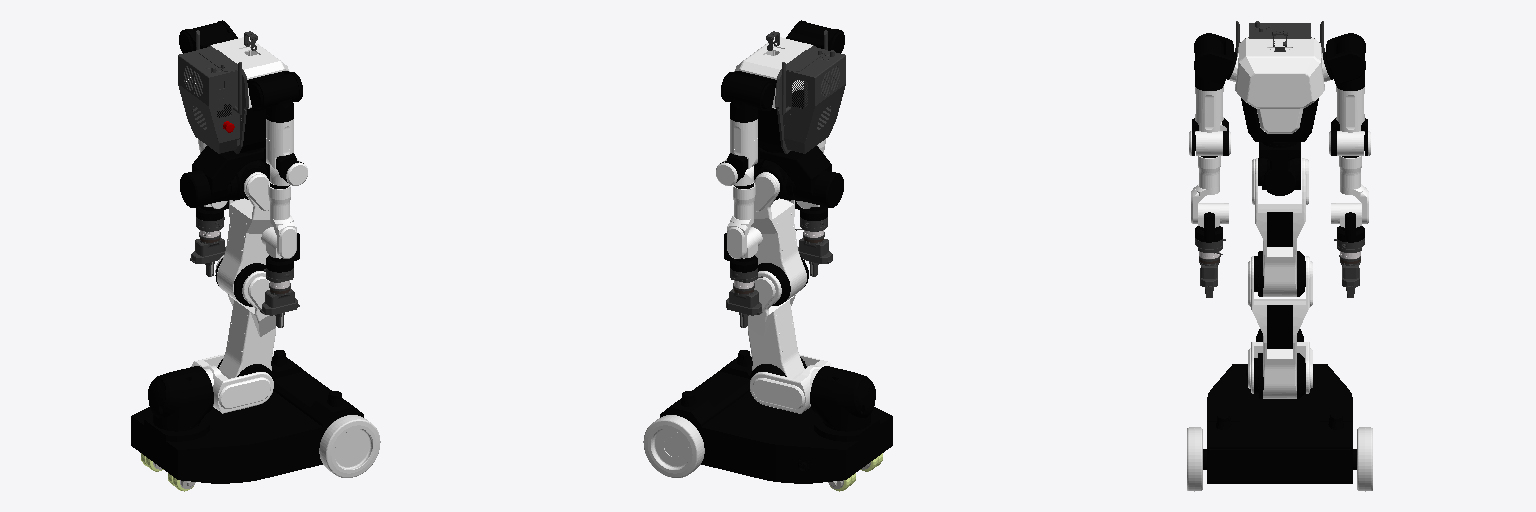
--- Facts derived from the render (not from the file) ---
The picture shows the robot from 3 angles, left to right: view 1: azimuth 30°, elevation 25°; view 2: azimuth 150°, elevation 25°; view 3: azimuth 270°, elevation 25°; orthographic projection.
Model RBY1_A_v1.0 with 34 links and 33 joints (22 revolute, 2 continuous, 4 prismatic, 5 fixed), rooted at base, posed every joint at zero.
Links seen in each view (by area): view 1: base, link_torso_5, link_torso_2, link_torso_1, wheel_r, link_torso_4, link_torso_0, link_right_arm_2, link_right_arm_1, link_right_arm_3, link_right_arm_5, link_right_arm_4 (+5 smaller); view 2: base, link_torso_5, link_torso_2, link_torso_1, wheel_l, link_torso_4, link_torso_0, link_left_arm_2, link_left_arm_1, link_left_arm_3, link_left_arm_5, link_left_arm_4 (+5 smaller); view 3: base, link_torso_5, link_torso_1, link_torso_2, link_torso_4, link_right_arm_2, link_left_arm_2, link_right_arm_3, link_left_arm_3, link_right_arm_0, link_left_arm_0, link_right_arm_5 (+6 smaller).
Link boxes in pixels (x1,y1,x2,y2): base: (131,350,363,491); link_torso_5: (178,30,289,153); link_torso_2: (215,172,272,306); link_torso_1: (215,255,275,407); wheel_r: (319,415,380,477); link_torso_4: (180,146,269,207); link_torso_0: (191,354,273,413); link_right_arm_2: (264,119,307,185); link_right_arm_1: (260,74,297,122); link_right_arm_3: (267,159,300,218); link_right_arm_5: (261,227,299,272); link_right_arm_4: (270,215,296,258); base: (660,350,892,491); link_torso_5: (734,30,845,153); link_torso_2: (751,172,808,305); link_torso_1: (748,259,806,379); wheel_l: (643,415,704,477); link_torso_4: (757,146,843,207); link_torso_0: (750,354,831,413); link_left_arm_2: (716,119,759,185); link_left_arm_1: (726,74,763,122); link_left_arm_3: (723,159,756,218); link_left_arm_5: (724,227,762,272); link_left_arm_4: (727,215,753,258); base: (1203,329,1356,483); link_torso_5: (1227,21,1332,145); link_torso_1: (1248,256,1312,398); link_torso_2: (1252,158,1308,296); link_torso_4: (1259,142,1300,195); link_right_arm_2: (1189,86,1230,155); link_left_arm_2: (1329,86,1370,155); link_right_arm_3: (1195,131,1226,187); link_left_arm_3: (1333,131,1364,187); link_right_arm_0: (1194,33,1234,84); link_left_arm_0: (1325,33,1365,84); link_right_arm_5: (1195,203,1228,242).
Size in the robot's own frame: 0.6626 by 0.58 by 1.47 metres.
Meshes: 29 distinct files referenced, 32 mesh visuals loaded (27 Collada DAE); not drawn: 2 (reference not matched to a file when rendering).

URDF robot description (RBY1_A_v1.0):
<?xml version="1.0"?>
<robot name="RBY1_A_v1.0"> <!-- This file is the same as 'model-v1.0.urdf' -->
    <mobile type="differential" xyz="0.228 0 0" rpy="0 0 0" joints="right_wheel left_wheel"
            params="0.53 0.1"/> <!-- wheel_base, wheel_radius -->

    <link name="base">
        <inertial>
            <mass value="60.08042639"/>
            <origin rpy="0 0 0" xyz="-0.06157942 -0.00142271 0.13513861"/>
            <inertia ixx="1.37742174" ixy="0.02521789" ixz="0.18565467" iyy="2.99386515" iyz="-0.00641869"
                     izz="3.76085052"/>
        </inertial>

        <visual>
            <geometry>
                <mesh filename="./meshes/base.dae"/>
            </geometry>
        </visual>
    </link>

    <link name="wheel_r">
        <inertial>
            <mass value="1.37783736"/>
            <origin rpy="0 0 0" xyz="0.0 -0.00073938 0.0"/>
            <inertia ixx="0.00426657" ixy="0.0" ixz="0.0" iyy="0.00811815" iyz="0.0" izz="0.00426657"/>
        </inertial>

        <visual>
            <geometry>
                <mesh filename="./meshes/WHEEL.dae"/>
            </geometry>
        </visual>
    </link>

    <link name="wheel_l">
        <inertial>
            <mass value="1.37783736"/>
            <origin rpy="0 0 0" xyz="0.0 0.00073938 0.0"/>
            <inertia ixx="0.00426657" ixy="0.0" ixz="0.0" iyy="0.00811815" iyz="0.0" izz="0.00426657"/>
        </inertial>

        <visual>
            <geometry>
                <mesh filename="./meshes/WHEEL.dae"/>
            </geometry>
        </visual>
    </link>

    <link name="link_torso_0">
        <inertial>
            <mass value="2.24282123"/>
            <origin rpy="0 0 0" xyz="-0.08848415 0.00021367 0.00000046"/>
            <inertia ixx="0.01413496" ixy="0.00092982" ixz="-0.00000010" iyy="0.01005357"
                     iyz="-0.00000008" izz="0.01892525"/>
        </inertial>

        <visual>
            <geometry>
                <mesh filename="./meshes/LINK_1.dae"/>
            </geometry>
        </visual>

        <collision>
            <origin xyz="-0.115 0 0" rpy="0 1.5708 0"/>
            <geometry>
                <capsule radius="0.105" length="0.230" coltype="1"/>
                <!-- <capsule sp="0.0 0.0 0.0" ep="-0.230 0.0 0.0" radius="0.105" length="1"/> -->
            </geometry>
        </collision>
    </link>

    <link name="link_torso_1">
        <inertial>
            <mass value="9.72162676"/>
            <origin rpy="0 0 0" xyz="0.00728955 -0.01728522 0.06911380"/>
            <inertia ixx="0.14862640" ixy="-0.00142621" ixz="-0.00951385" iyy="0.13854733"
                     iyz="-0.00975351" izz="0.02912982"/>
        </inertial>

        <visual>
            <geometry>
                <mesh filename="./meshes/LINK_2.dae"/>
            </geometry>
        </visual>

        <collision>
            <origin xyz="0.0100 0 0.2400" rpy="0 0 0"/>
            <geometry>
                <capsule radius="0.115" length="0.220" coltype="2"/>
                <!-- <capsule sp="0.01 0.0 0.130" ep="0.01 0.0 0.350" radius="0.115"/> -->
            </geometry>
        </collision>
    </link>

    <link name="link_torso_2">
        <inertial>
            <mass value="9.21691850"/>
            <origin rpy="0 0 0" xyz="0.00653835 -0.01769536 0.05636582"/>
            <inertia ixx="0.12162270" ixy="-0.00127910" ixz="-0.00831678" iyy="0.11589190"
                     iyz="-0.00873271" izz="0.03094484"/>
        </inertial>

        <visual>
            <geometry>
                <mesh filename="./meshes/LINK_3.dae"/>
            </geometry>
        </visual>

        <collision>
            <origin xyz="0.0250 0 0.2300" rpy="0 0 0"/>
            <geometry>
                <capsule radius="0.095" length="0.1600" coltype="4"/>
                <!-- <capsule sp="0.025 0.0 0.15" ep="0.025 0.0 0.310" radius="0.095"/> -->
            </geometry>
        </collision>
    </link>

    <link name="link_torso_3">
        <inertial>
            <mass value="4.18679196"/>
            <origin rpy="0 0 0" xyz="-0.00574156 -0.01725975 0.00005610"/>
            <inertia ixx="0.00849870" ixy="0.00040861" ixz="-0.00000263" iyy="0.00929513"
                     iyz="-0.00001243" izz="0.00955442"/>
        </inertial>

        <visual>
            <geometry>
                <mesh filename="./meshes/LINK_4.dae"/>
            </geometry>
        </visual>
    </link>

    <link name="link_torso_4">
        <inertial>
            <mass value="4.45566276"/>
            <origin rpy="0 0 0" xyz="-0.09097095 0.00005085 0.02601950"/>
            <inertia ixx="0.01545991" ixy="0.00001883" ixz="-0.00780349" iyy="0.02550888" iyz="0.00000715"
                     izz="0.01952563"/>
        </inertial>

        <visual>
            <geometry>
                <mesh filename="./meshes/LINK_5.dae"/>
            </geometry>
        </visual>


        <collision>
            <origin xyz="-0.070000 0 0.038500" rpy="0 1.5708 0"/>
            <geometry>
                <capsule radius="0.105" length="0.2" coltype="8"/>
                <!-- <capsule sp="0.03 0.0 0.0385" ep="-0.170 0.0 0.0385" radius="0.105"/> -->
            </geometry>
        </collision>
    </link>

    <link name="link_torso_5">
        <inertial>
            <mass value="12.59012341"/>
            <origin rpy="0 0 0" xyz="-0.01338376 0.00025621 -0.03272487"/>
            <inertia ixx="0.21375525" ixy="0.00051520" ixz="0.00880124" iyy="0.16562090" iyz="-0.00023995"
                     izz="0.13308879"/>
        </inertial>

        <visual>
            <geometry>
                <mesh filename="./meshes/LINK_6.dae"/>
            </geometry>
        </visual>

        <collision>
            <origin xyz="0 0 0.0075" rpy="0 0 0"/>
            <geometry>
                <capsule radius="0.155" length="0.1350" coltype="16"/>
                <!-- <capsule sp="0.0 0.0 -0.06" ep="0.0 0.0 0.075" radius="0.155"/> -->
            </geometry>
        </collision>
    </link>

    <link name="link_right_arm_0">
        <inertial>
            <mass value="1.26164242"/>
            <origin rpy="0 0 0" xyz="-0.00316662 0.03437181 -0.00000030"/>
            <inertia ixx="0.00230621" ixy="0.00039024" ixz="-0.00000256" iyy="0.00426418" iyz="0.00000118"
                     izz="0.00432156"/>
        </inertial>

        <visual>
            <geometry>
                <mesh filename="./meshes/LINK_7.dae"/>
            </geometry>
        </visual>

        <collision>
            <origin xyz="-0.015 0.018 -0.008" rpy="0 1.5708 0"/>
            <geometry>
                <capsule radius="0.075" length="0.0700"/>
            </geometry>
        </collision>
    </link>

    <link name="link_right_arm_1">
        <inertial>
            <mass value="2.27287031"/>
            <origin rpy="0 0 0" xyz="-0.00307855 -0.00124741 -0.01294324"/>
            <inertia ixx="0.00388490" ixy="-0.00001477" ixz="0.00011465" iyy="0.00447034"
                     iyz="-0.00010023" izz="0.00288341"/>
        </inertial>

        <visual>
            <geometry>
                <mesh filename="./meshes/LINK_8.dae"/>
            </geometry>
        </visual>

        <collision>
            <origin xyz="0 0 -0.1000" rpy="0 0 0"/>
            <geometry>
                <capsule radius="0.05" length="0.2" coltype="32"/>
                <!-- <capsule sp="0.0 0.0 0.0" ep="0.0 0.0 -0.200" radius="0.050"/> -->
            </geometry>
        </collision>
    </link>

    <link name="link_right_arm_2">
        <inertial>
            <mass value="2.46909439"/>
            <origin rpy="0 0 0" xyz="0.00115434 0.00196635 -0.16192524"/>
            <inertia ixx="0.00980269" ixy="0.00005871" ixz="0.00051888" iyy="0.00924560" iyz="-0.00045932"
                     izz="0.00329867"/>
        </inertial>

        <visual>
            <geometry>
                <mesh filename="./meshes/LINK_9.dae"/>
            </geometry>
        </visual>

        <collision>
            <origin xyz="0.0260 0 -0.2760" rpy="1.5708 0 0"/>
            <geometry>
                <capsule radius="0.05" length="0.080000" coltype="64"/>
                <!-- <capsule sp="0.026 -0.040 -0.276" ep="0.026 0.040 -0.276" radius="0.05"/> -->
            </geometry>
        </collision>
    </link>

    <link name="link_right_arm_3">
        <inertial>
            <mass value="2.26099493"/>
            <origin rpy="0 0 0" xyz="-0.01603135 -0.00692891 -0.04549811"/>
            <inertia ixx="0.00822606" ixy="0.00027620" ixz="-0.00156570" iyy="0.00844870" iyz="0.00076157"
                     izz="0.00236614"/>
        </inertial>

        <visual>
            <geometry>
                <mesh filename="./meshes/LINK_10.dae"/>
            </geometry>
        </visual>

        <collision>
            <origin xyz="-0.0310 0 -0.1075" rpy="0 0 0"/>
            <geometry>
                <capsule radius="0.04" length="0.1150" coltype="128" colaffinity="30"/>
                <!-- <capsule sp="-0.031 0.0 -0.05" ep="-0.031 0.0 -0.165" radius="0.04"/> -->
            </geometry>
        </collision>
    </link>

    <link name="link_right_arm_4">
        <inertial>
            <mass value="0.42508710"/>
            <origin rpy="0 0 0" xyz="-0.00000011 -0.02696036 0.06182110"/>
            <inertia ixx="0.00082466" ixy="0.0" ixz="0.0" iyy="0.00075398" iyz="-0.00025338"
                     izz="0.00039794"/>
        </inertial>

        <visual>
            <geometry>
                <mesh filename="./meshes/LINK_11.dae"/>
            </geometry>
        </visual>

        <collision>
            <origin xyz="0 -0.038 0.0175" rpy="0 0 0"/>
            <geometry>
                <capsule radius="0.035" length="0.095" coltype="256" colaffinity="30"/>
            </geometry>
        </collision>
    </link>

    <link name="link_right_arm_5">
        <inertial>
            <mass value="1.59194395"/>
            <origin rpy="0 0 0" xyz="0.00318034 -0.00532264 -0.02809655"/>
            <inertia ixx="0.00256054" ixy="-0.00002344" ixz="-0.00001563" iyy="0.00257233"
                     iyz="0.00021608" izz="0.00156092"/>
        </inertial>

        <visual>
            <geometry>
                <mesh filename="./meshes/LINK_12.dae"/>
            </geometry>
        </visual>

        <collision>
            <origin xyz="0 0 -0.1" rpy="0 0 0"/>
            <geometry>
                <capsule radius="0.075" length="0.25" coltype="512" colaffinity="31"/>
                <!-- <capsule sp="0.0 0.0 0.002" ep="0.0 0.0 -0.050" radius="0.075"/> -->
            </geometry>
        </collision>
    </link>

    <link name="link_right_arm_6">
        <inertial>
            <mass value="0.21137279"/>
            <origin rpy="0 0 0" xyz="0.00066810 -0.00031708 -0.09636043"/>
            <inertia ixx="0.00013511" ixy="-0.00000242" ixz="-0.00000102" iyy="0.00014453"
                     iyz="0.00000094" izz="0.00025431"/>
        </inertial>

        <visual>
            <geometry>
                <mesh filename="./meshes/LINK_13.dae"/>
            </geometry>
        </visual>
    </link>

    <link name="link_left_arm_0">
        <inertial>
            <mass value="1.26164242"/>
            <origin rpy="0 0 0" xyz="-0.00316662 -0.03437181 -0.00000030"/>
            <inertia ixx="0.00230621" ixy="-0.00039024" ixz="0.00000256" iyy="0.00426418" iyz="0.00000118"
                     izz="0.00432156"/>
        </inertial>

        <visual>
            <geometry>
                <mesh filename="./meshes/LINK_14.dae"/>
            </geometry>
        </visual>

        <collision>
            <origin xyz="-0.015 -0.018 -0.008" rpy="0 1.5708 0"/>
            <geometry>
                <capsule radius="0.075" length="0.0700"/>
            </geometry>
        </collision>
    </link>

    <link name="link_left_arm_1">
        <inertial>
            <mass value="2.27287031"/>
            <origin rpy="0 0 0" xyz="-0.00307855 0.00124741 -0.01294324"/>
            <inertia ixx="0.00388490" ixy="-0.00001477" ixz="0.00011465" iyy="0.00447034" iyz="0.00010023"
                     izz="0.00288341"/>
        </inertial>

        <visual>
            <geometry>
                <mesh filename="./meshes/LINK_15.dae"/>
            </geometry>
        </visual>

        <collision>
            <origin xyz="0 0 -0.1000" rpy="0 0 0"/>
            <geometry>
                <capsule radius="0.050" length="0.2000" colaffinity="768"/>
            </geometry>
        </collision>
    </link>

    <link name="link_left_arm_2">
        <inertial>
            <mass value="2.46909439"/>
            <origin rpy="0 0 0" xyz="0.00115434 -0.00196635 -0.16192524"/>
            <inertia ixx="0.00980269" ixy="0.00005871" ixz="0.00051888" iyy="0.00924560" iyz="-0.00045932"
                     izz="0.00329867"/>
        </inertial>

        <visual>
            <geometry>
                <mesh filename="./meshes/LINK_16.dae"/>
            </geometry>
        </visual>

        <collision>
            <origin xyz="0.0260 0 -0.2760" rpy="1.5708 0 0"/>
            <geometry>
                <capsule radius="0.05" length="0.080000" colaffinity="768"/>
            </geometry>
        </collision>
    </link>

    <link name="link_left_arm_3">
        <inertial>
            <mass value="2.26099493"/>
            <origin rpy="0 0 0" xyz="-0.01603135 0.00692891 -0.04549811"/>
            <inertia ixx="0.00822606" ixy="-0.00027620" ixz="-0.00156570" iyy="0.00844870"
                     iyz="-0.00076157" izz="0.00236614"/>
        </inertial>

        <visual>
            <geometry>
                <mesh filename="./meshes/LINK_17.dae"/>
            </geometry>
        </visual>

        <collision>
            <origin xyz="-0.0310 0 -0.1075" rpy="0 0 0"/>
            <geometry>
                <capsule radius="0.04" length="0.1150" colaffinity="926"/>
            </geometry>
        </collision>
    </link>

    <link name="link_left_arm_4">
        <inertial>
            <mass value="0.42508710"/>
            <origin rpy="0 0 0" xyz="0.00000011 0.02696036 0.06182110"/>
            <inertia ixx="0.00082466" ixy="0.0" ixz="0.0" iyy="0.00075398" iyz="0.00025338"
                     izz="0.00039794"/>
        </inertial>

        <visual>
            <geometry>
                <mesh filename="./meshes/LINK_18.dae"/>
            </geometry>
        </visual>

        <collision>
            <origin xyz="0 0.038000 0.017500" rpy="0 0 0"/>
            <geometry>
                <capsule radius="0.035" length="0.095000" colaffinity="1022"/>
            </geometry>
        </collision>
    </link>

    <link name="link_left_arm_5">
        <inertial>
            <mass value="1.59194395"/>
            <origin rpy="0 0 0" xyz="0.00318034 0.00532264 -0.02809655"/>
            <inertia ixx="0.00256054" ixy="0.00002344" ixz="-0.00001563" iyy="0.00257233"
                     iyz="-0.00021608" izz="0.00156092"/>
        </inertial>

        <visual>
            <geometry>
                <mesh filename="./meshes/LINK_19.dae"/>
            </geometry>
        </visual>

        <collision>
            <origin xyz="0 0 -0.1" rpy="0 0 0"/>
            <geometry>
                <capsule radius="0.075" length="0.25" colaffinity="1023"/>
            </geometry>
        </collision>
    </link>

    <link name="link_left_arm_6">
        <inertial>
            <mass value="0.21137279"/>
            <origin rpy="0 0 0" xyz="-0.00066810 0.00031708 -0.09636043"/>
            <inertia ixx="0.00013511" ixy="-0.00000242" ixz="0.00000102" iyy="0.00014453"
                     iyz="-0.00000094" izz="0.00025431"/>
        </inertial>

        <visual>
            <geometry>
                <mesh filename="./meshes/LINK_20.dae"/>
            </geometry>
        </visual>
    </link>

    <link name="FT_sensor_R">
        <inertial>
            <mass value="0.49078507"/>
            <origin rpy="0 0 0" xyz="0.00010423 0.00108019 -0.01880676"/>
            <inertia ixx="0.00028587" ixy="-0.00000146" ixz="-0.00000026" iyy="0.00030459"
                     iyz="-0.00000772" izz="0.00036377"/>
        </inertial>

        <visual>
            <geometry>
                <mesh filename="./meshes/FT_SENSOR_R.dae"/>
            </geometry>
        </visual>
    </link>

    <link name="FT_sensor_L">
        <inertial>
            <mass value="0.49078507"/>
            <origin rpy="0 0 0" xyz="-0.00010423 -0.00108019 -0.01880676"/>
            <inertia ixx="0.00028587" ixy="-0.00000146" ixz="0.00000026" iyy="0.00030459" iyz="0.00000772"
                     izz="0.00036377"/>
        </inertial>

        <visual>
            <geometry>
                <mesh filename="./meshes/FT_SENSOR_L.dae"/>
            </geometry>
        </visual>
    </link>

    <link name="ee_right">
        <inertial>
            <mass value="0.46704998"/>
            <origin rpy="0 0 0" xyz="0.00212703 0.00000615 -0.04287176"/>
            <inertia ixx="0.00032067" ixy="0.00002383" ixz="-0.00000785" iyy="0.00059559"
                     iyz="-0.00000007" izz="0.00052732"/>
        </inertial>

        <visual>
            <geometry>
                <mesh filename="./meshes/EE_BODY.dae"/>
            </geometry>
        </visual>
    </link>

    <link name="ee_finger_r1">
        <inertial>
            <mass value="0.03326999"/>
            <origin rpy="0 0 0" xyz="0.00278346 -0.00000329 -0.02570112"/>
            <inertia ixx="0.00001231" ixy="0.0" ixz="-0.00000042" iyy="0.00001066" iyz="0.0"
                     izz="0.00000224"/>
        </inertial>

        <visual>
            <geometry>
                <mesh filename="./meshes/EE_FINGER.dae"/>
            </geometry>
        </visual>
    </link>

    <link name="ee_finger_r2">
        <inertial>
            <mass value="0.03326999"/>
            <origin rpy="0 0 0" xyz="0.00278346 -0.00000329 -0.02570112"/>
            <inertia ixx="0.00001231" ixy="0.0" ixz="-0.00000042" iyy="0.00001066" iyz="0.0"
                     izz="0.00000224"/>
        </inertial>

        <visual>
            <geometry>
                <mesh filename="./meshes/EE_FINGER.dae"/>
            </geometry>
        </visual>
    </link>

    <link name="ee_left">
        <inertial>
            <mass value="0.46704998"/>
            <origin rpy="0 0 0" xyz="0.00212703 0.00000615 -0.04287176"/>
            <inertia ixx="0.00032067" ixy="0.00002383" ixz="-0.00000785" iyy="0.00059559"
                     iyz="-0.00000007" izz="0.00052732"/>
        </inertial>

        <visual>
            <geometry>
                <mesh filename="./meshes/EE_BODY.dae"/>
            </geometry>
        </visual>
    </link>

    <link name="ee_finger_l1">
        <inertial>
            <mass value="0.03326999"/>
            <origin rpy="0 0 0" xyz="0.00278346 -0.00000329 -0.02570112"/>
            <inertia ixx="0.00001231" ixy="0.0" ixz="-0.00000042" iyy="0.00001066" iyz="0.0"
                     izz="0.00000224"/>
        </inertial>

        <visual>
            <geometry>
                <mesh filename="./meshes/EE_FINGER.dae"/>
            </geometry>
        </visual>
    </link>

    <link name="ee_finger_l2">
        <inertial>
            <mass value="0.03326999"/>
            <origin rpy="0 0 0" xyz="0.00278346 -0.00000329 -0.02570112"/>
            <inertia ixx="0.00001231" ixy="0.0" ixz="-0.00000042" iyy="0.00001066" iyz="0.0"
                     izz="0.00000224"/>
        </inertial>

        <visual>
            <geometry>
                <mesh filename="./meshes/EE_FINGER.dae"/>
            </geometry>
        </visual>
    </link>

    <link name="link_head_0">
        <inertial>
            <mass value="0.07582110"/>
            <origin rpy="0 0 0" xyz="-0.00800549 0.0 -0.01100308"/>
            <inertia ixx="0.00003307" ixy="0.0" ixz="-0.00000290" iyy="0.00002209" iyz="0.0"
                     izz="0.00003796"/>
        </inertial>

        <visual>
            <geometry>
                <mesh filename="./meshes/PAN_TILT_1.dae"/>
            </geometry>
        </visual>
    </link>

    <link name="link_head_1">
        <inertial>
            <mass value="0.07450580"/>
            <origin rpy="0 0 0" xyz="-0.01150679 -0.00114270 -0.00031579"/>
            <inertia ixx="0.00001850" ixy="-0.00000035" ixz="0.00000203" iyy="0.00002451"
                     iyz="-0.00000010" izz="0.00002062"/>
        </inertial>

        <visual>
            <geometry>
                <mesh filename="./meshes/PAN_TILT_2.dae"/>
            </geometry>
        </visual>
    </link>

    <link name="link_head_2">
        <inertial>
            <mass value="0.03585374"/>
            <origin rpy="0 0 0" xyz="-0.00081966 0.00099024 0.02283704"/>
            <inertia ixx="0.00002046" ixy="0.00000001" ixz="-0.00000027" iyy="0.00001044" iyz="0.00000076"
                     izz="0.00001291"/>
        </inertial>

        <visual>
            <geometry>
                <mesh filename="./meshes/PAN_TILT_3.dae"/>
            </geometry>
        </visual>
    </link>


    <!-- Joints -->
    <joint name="right_wheel" type="continuous">
        <parent link="base"/>
        <child link="wheel_r"/>
        <origin rpy="0.0 0.0 0.0" xyz="0.228 -0.265 0.1"/>
        <axis xyz="0 -1 0"/>
        <limit velocity="15.707963268" acceleration="3.141592"/>
    </joint>

    <joint name="left_wheel" type="continuous">
        <parent link="base"/>
        <child link="wheel_l"/>
        <origin rpy="0.0 0.0 0.0" xyz="0.228 0.265 0.1"/>
        <axis xyz="0 -1 0"/>
        <limit velocity="15.707963268" acceleration="3.141592"/>
    </joint>

    <joint name="torso_0" type="revolute">
        <parent link="base"/>
        <child link="link_torso_0"/>
        <origin rpy="0.0 0.0 0.0" xyz="0.0 0.0 0.2805"/>
        <axis xyz="1 0 0"/>
        <!-- Nm, rad/s^2, rad/s, (min) rad, (max) rad -->
        <!-- 270Nm, 5rad/s^2, 120deg/s, -15deg, 15deg -->
        <limit effort="270.0"
               acceleration="5.0"
               velocity="2.09439510"
               lower="-0.261799388"
               upper="0.261799388"
        />
    </joint>

    <joint name="torso_1" type="revolute">
        <parent link="link_torso_0"/>
        <child link="link_torso_1"/>
        <origin rpy="0.0 0.0 0.0" xyz="0.0 0.0 0.0"/>
        <axis xyz="0 1 0"/>
        <!-- Nm, rad/s^2, rad/s, (min) rad, (max) rad -->
        <!-- 270Nm, 5rad/s^2, 120deg/s, -30deg, 90deg -->
        <limit effort="270.0"
               acceleration="5.0"
               velocity="2.09439510"
               lower="-0.523598776"
               upper="1.570796327"
        />
    </joint>

    <joint name="torso_2" type="revolute">
        <parent link="link_torso_1"/>
        <child link="link_torso_2"/>
        <origin rpy="0.0 0.0 0.0" xyz="0.0 0.0 0.350"/>
        <axis xyz="0 1 0"/>
        <!-- Nm, rad/s^2, rad/s, (min) rad, (max) rad -->
        <!-- 270Nm, 5rad/s^2, 120deg/s, -150deg, 90deg -->
        <limit effort="270.0"
               acceleration="5.0"
               velocity="2.09439510"
               lower="-2.617993878"
               upper="1.570796327"
        />
    </joint>

    <joint name="torso_3" type="revolute">
        <parent link="link_torso_2"/>
        <child link="link_torso_3"/>
        <origin rpy="0.0 0.0 0.0" xyz="0.0 0.0 0.350"/>
        <axis xyz="0 1 0"/>
        <!-- Nm, rad/s^2, rad/s, (min) rad, (max) rad -->
        <!-- 120Nm, 5rad/s^2, 180deg/s, -45deg, 90deg -->
        <limit effort="120.0"
               acceleration="5.0"
               velocity="3.141592654"
               lower="-0.785398163"
               upper="1.570796327"
        />
    </joint>

    <joint name="torso_4" type="revolute">
        <parent link="link_torso_3"/>
        <child link="link_torso_4"/>
        <origin rpy="0.0 0.0 0.0" xyz="0.0 0.0 0.0"/>
        <axis xyz="1 0 0"/>
        <!-- Nm, rad/s^2, rad/s, (min) rad, (max) rad -->
        <!-- 120Nm, 5rad/s^2, 180deg/s, -30deg, 30deg -->
        <limit effort="120.0"
               acceleration="5.0"
               velocity="3.141592654"
               lower="-0.523598776"
               upper="0.523598776"
        />
    </joint>

    <joint name="torso_5" type="revolute">
        <parent link="link_torso_4"/>
        <child link="link_torso_5"/>
        <origin rpy="0.0 0.0 0.0" xyz="0.0 0.0 0.309426548461"/>
        <axis xyz="0 0 1"/>
        <!-- Nm, rad/s^2, rad/s, (min) rad, (max) rad -->
        <!-- 120Nm, 5rad/s^2, 180deg/s, -135deg, 135deg -->
        <limit effort="120.0"
               acceleration="5.0"
               velocity="3.141592654"
               lower="-2.35619449"
               upper="2.35619449"
        />
    </joint>

    <joint name="right_arm_0" type="revolute">
        <parent link="link_torso_5"/>
        <child link="link_right_arm_0"/>
        <origin rpy="0.0 0.0 0.0" xyz="0.0 -0.220 0.080073451539 "/>
        <axis xyz="0.0 0.93969262 -0.34202014"/>
        <!-- Nm, rad/s^2, rad/s, (min) rad, (max) rad -->
        <!-- 70Nm, 10rad/s^2, 180deg/s, -180deg, 180deg -->
        <limit effort="70.0"
               acceleration="10.0"
               velocity="3.141592654"
               lower="-3.141592654"
               upper="3.141592654"
        />
    </joint>

    <joint name="right_arm_1" type="revolute">
        <parent link="link_right_arm_0"/>
        <child link="link_right_arm_1"/>
        <origin rpy="0.0 0.0 0.0" xyz="0.0 0.0 0.0"/>
        <axis xyz="1 0 0"/>
        <!-- Nm, rad/s^2, rad/s, (min) rad, (max) rad -->
        <!-- 70Nm, 10rad/s^2, 180deg/s, -180deg, 1deg -->
        <limit effort="70.0"
               acceleration="10.0"
               velocity="3.141592654"
               lower="-3.141592654"
               upper="0.017453293"
        />
    </joint>

    <joint name="right_arm_2" type="revolute">
        <parent link="link_right_arm_1"/>
        <child link="link_right_arm_2"/>
        <origin rpy="0.0 0.0 0.0" xyz="0.0 0.0 0.0"/>
        <axis xyz="0 0 1"/>
        <!-- Nm, rad/s^2, rad/s, (min) rad, (max) rad -->
        <!-- 70Nm, 10rad/s^2, 180deg/s, -180deg, 180deg -->
        <limit effort="70.0"
               acceleration="10.0"
               velocity="3.141592654"
               lower="-3.141592654"
               upper="3.141592654"
        />
    </joint>

    <joint name="right_arm_3" type="revolute">
        <parent link="link_right_arm_2"/>
        <child link="link_right_arm_3"/>
        <origin rpy="0.0 0.0 0.0" xyz="0.031 0.0 -0.276"/>
        <axis xyz="0 1 0"/>
        <!-- Nm, rad/s^2, rad/s, (min) rad, (max) rad -->
        <!-- 40Nm, 10rad/s^2, 180deg/s, -150deg, 1deg -->
        <limit effort="40.0"
               acceleration="10.0"
               velocity="3.141592654"
               lower="-2.617993878"
               upper="0.017453293"
        />
    </joint>

    <joint name="right_arm_4" type="revolute">
        <parent link="link_right_arm_3"/>
        <child link="link_right_arm_4"/>
        <origin rpy="0.0 0.0 0.0" xyz="-0.031 0.0 -0.256"/>
        <axis xyz="0 0 1"/>
        <!-- Nm, rad/s^2, rad/s, (min) rad, (max) rad -->
        <!-- 10Nm, 10rad/s^2, 360deg/s, -180deg, 180deg -->
        <limit effort="10.0"
               acceleration="10.0"
               velocity="6.283185308"
               lower="-3.141592654"
               upper="3.141592654"
        />
    </joint>

    <joint name="right_arm_5" type="revolute">
        <parent link="link_right_arm_4"/>
        <child link="link_right_arm_5"/>
        <origin rpy="0.0 0.0 0.0" xyz="0.0 0.0 0.0"/>
        <axis xyz="0 1 0"/>
        <!-- Nm, rad/s^2, rad/s, (min) rad, (max) rad -->
        <!-- 10Nm, 10rad/s^2, 360deg/s, -90deg, 110deg -->
        <limit effort="10.0"
               acceleration="10.0"
               velocity="6.283185308"
               lower="-1.570796327"
               upper="1.919862177"
        />
    </joint>

    <joint name="right_arm_6" type="revolute">
        <parent link="link_right_arm_5"/>
        <child link="link_right_arm_6"/>
        <origin rpy="0.0 0.0 0.0" xyz="0.0 0.0 0.0"/>
        <axis xyz="0 0 1"/>
        <!-- Nm, rad/s^2, rad/s, (min) rad, (max) rad -->
        <!-- 8Nm, 10rad/s^2, 120deg/s, -155deg, 155deg -->
        <limit effort="8.0"
               acceleration="10.0"
               velocity="2.094395102"
               lower="-2.705260340"
               upper="2.705260340"
        />
    </joint>

    <joint name="left_arm_0" type="revolute">
        <parent link="link_torso_5"/>
        <child link="link_left_arm_0"/>
        <origin rpy="0.0 0.0 0.0" xyz="0.0 0.220 0.080073452 "/>
        <axis xyz="0.0 0.93969262 0.34202014"/>
        <!-- Nm, rad/s^2, rad/s, (min) rad, (max) rad -->
        <!-- 70Nm, 10rad/s^2, 180deg/s, -180deg, 180deg -->
        <limit effort="70.0"
               acceleration="10.0"
               velocity="3.141592654"
               lower="-3.141592654"
               upper="3.141592654"
        />
    </joint>

    <joint name="left_arm_1" type="revolute">
        <parent link="link_left_arm_0"/>
        <child link="link_left_arm_1"/>
        <origin rpy="0.0 0.0 0.0" xyz="0.0 0.0 0.0"/>
        <axis xyz="1 0 0"/>
        <!-- Nm, rad/s^2, rad/s, (min) rad, (max) rad -->
        <!-- 70Nm, 10rad/s^2, 180deg/s, -1deg, 180deg -->
        <limit effort="70.0"
               acceleration="10.0"
               velocity="3.141592654"
               lower="-0.017453293"
               upper="3.141592654"
        />
    </joint>

    <joint name="left_arm_2" type="revolute">
        <parent link="link_left_arm_1"/>
        <child link="link_left_arm_2"/>
        <origin rpy="0.0 0.0 0.0" xyz="0.0 0.0 0.0"/>
        <axis xyz="0 0 1"/>
        <!-- Nm, rad/s^2, rad/s, (min) rad, (max) rad -->
        <!-- 70Nm, 10rad/s^2, 180deg/s, -180deg, 180deg -->
        <limit effort="70.0"
               acceleration="10.0"
               velocity="3.141592654"
               lower="-3.141592654"
               upper="3.141592654"
        />
    </joint>

    <joint name="left_arm_3" type="revolute">
        <parent link="link_left_arm_2"/>
        <child link="link_left_arm_3"/>
        <origin rpy="0.0 0.0 0.0" xyz="0.031 0.0 -0.276"/>
        <axis xyz="0 1 0"/>
        <!-- Nm, rad/s^2, rad/s, (min) rad, (max) rad -->
        <!-- 40Nm, 10rad/s^2, 180deg/s, -150deg, 1deg -->
        <limit effort="40.0"
               acceleration="10.0"
               velocity="3.141592654"
               lower="-2.617993878"
               upper="0.017453293"
        />
    </joint>

    <joint name="left_arm_4" type="revolute">
        <parent link="link_left_arm_3"/>
        <child link="link_left_arm_4"/>
        <origin rpy="0.0 0.0 0.0" xyz="-0.031 0.0 -0.256"/>
        <axis xyz="0 0 1"/>
        <!-- Nm, rad/s^2, rad/s, (min) rad, (max) rad -->
        <!-- 10Nm, 10rad/s^2, 360deg/s, -180deg, 180deg -->
        <limit effort="10.0"
               acceleration="10.0"
               velocity="6.283185308"
               lower="-3.141592654"
               upper="3.141592654"
        />
    </joint>

    <joint name="left_arm_5" type="revolute">
        <parent link="link_left_arm_4"/>
        <child link="link_left_arm_5"/>
        <origin rpy="0.0 0.0 0.0" xyz="0.0 0.0 0.0"/>
        <axis xyz="0 1 0"/>
        <!-- Nm, rad/s^2, rad/s, (min) rad, (max) rad -->
        <!-- 10Nm, 10rad/s^2, 360deg/s, -90deg, 110deg -->
        <limit effort="10.0"
               acceleration="10.0"
               velocity="6.283185308"
               lower="-1.570796327"
               upper="1.919862177"
        />
    </joint>

    <joint name="left_arm_6" type="revolute">
        <parent link="link_left_arm_5"/>
        <child link="link_left_arm_6"/>
        <origin rpy="0.0 0.0 0.0" xyz="0.0 0.0 0.0"/>
        <axis xyz="0 0 1"/>
        <!-- Nm, rad/s^2, rad/s, (min) rad, (max) rad -->
        <!-- 8Nm, 10rad/s^2, 120deg/s, -155deg, 155deg -->
        <limit effort="8.0"
               acceleration="10.0"
               velocity="2.094395102"
               lower="-2.705260340"
               upper="2.705260340"
        />
    </joint>

    <joint name="tool_right" type="fixed">
        <parent link="link_right_arm_6"/>
        <child link="FT_sensor_R"/>
        <origin rpy="0.0 0.0 0.0" xyz="0.0 0.0 -0.1087"/>
        <axis xyz="0 0 1"/>
    </joint>

    <joint name="FT_Sensor_END_right" type="fixed">
        <parent link="FT_sensor_R"/>
        <child link="ee_right"/>
        <origin rpy="0.0 0.0 0.0" xyz="0.0 0.0 -0.0461"/>
        <axis xyz="0 0 1"/>
    </joint>

    <joint name="gripper_finger_r1" type="prismatic" in_model_type="fixed">
        <parent link="ee_right"/>
        <child link="ee_finger_r1"/>
        <origin rpy="0.0 0.0 0.0" xyz="0.003 0.0 -0.073"/>
        <axis xyz="-1 0 0"/>
        <limit effort="1000" velocity="0.05" lower="-0.05" upper="0"/>
    </joint>

    <joint name="gripper_finger_r2" type="prismatic" in_model_type="fixed">
        <parent link="ee_right"/>
        <child link="ee_finger_r2"/>
        <origin rpy="0.0 0.0 3.1415926535" xyz="-0.003 0.0 -0.073"/>
        <axis xyz="1 0 0"/>
        <limit effort="1000" velocity="0.05" lower="0" upper="0.05"/>
    </joint>

    <joint name="tool_left" type="fixed">
        <parent link="link_left_arm_6"/>
        <child link="FT_sensor_L"/>
        <origin rpy="0.0 0.0 0" xyz="0.0 0.0 -0.1087"/>
        <axis xyz="0 0 1"/>
    </joint>

    <joint name="FT_Sensor_END_left" type="fixed">
        <parent link="FT_sensor_L"/>
        <child link="ee_left"/>
        <origin rpy="0.0 0.0 0.0" xyz="0.0 0.0 -0.0461"/>
        <axis xyz="0 0 1"/>
    </joint>

    <joint name="gripper_finger_l1" type="prismatic" in_model_type="fixed">
        <parent link="ee_left"/>
        <child link="ee_finger_l1"/>
        <origin rpy="0.0 0.0 0.0" xyz="0.003 0.0 -0.073"/>
        <axis xyz="-1 0 0"/>
        <limit effort="1000" velocity="0.05" lower="-0.05" upper="0"/>
    </joint>

    <joint name="gripper_finger_l2" type="prismatic" in_model_type="fixed">
        <parent link="ee_left"/>
        <child link="ee_finger_l2"/>
        <origin rpy="0.0 0.0 3.1415926535" xyz="-0.003 0.0 -0.073"/>
        <axis xyz="1 0 0"/>
        <limit effort="1000" velocity="0.05" lower="0" upper="0.05"/>
    </joint>

    <joint name="head_base" type="fixed">
        <parent link="link_torso_5"/>
        <child link="link_head_0"/>
        <origin rpy="0.0 0.0 0.0" xyz="0.022 0.0 0.120073451525"/>
        <axis xyz="0 0 1"/>
    </joint>

    <joint name="head_0" type="revolute">
        <parent link="link_head_0"/>
        <child link="link_head_1"/>
        <origin rpy="0.0 0.0 0.0" xyz="0.0 0.0 0.02"/>
        <axis xyz="0 0 1"/>
        <limit effort="1000" velocity="3.14" lower="-0.523" upper="0.523"/>
    </joint>

    <joint name="head_1" type="revolute">
        <parent link="link_head_1"/>
        <child link="link_head_2"/>
        <origin rpy="0.0 0.0 0.0" xyz="0.0 0.0 0.0"/>
        <axis xyz="0 1 0"/>
        <limit effort="1000" velocity="3.14" lower="-0.35" upper="1.57"/>
    </joint>

    <!-- <joint name="head_mount" type="fixed">
      <parent link="link_head_2"/>
      <child link="Arbitrary device"/>
      <origin rpy="0.0 0.0 0.0" xyz="0.022 0.0 0.04"/>
      <axis xyz="0 0 1"/>
    </joint> -->

</robot>
